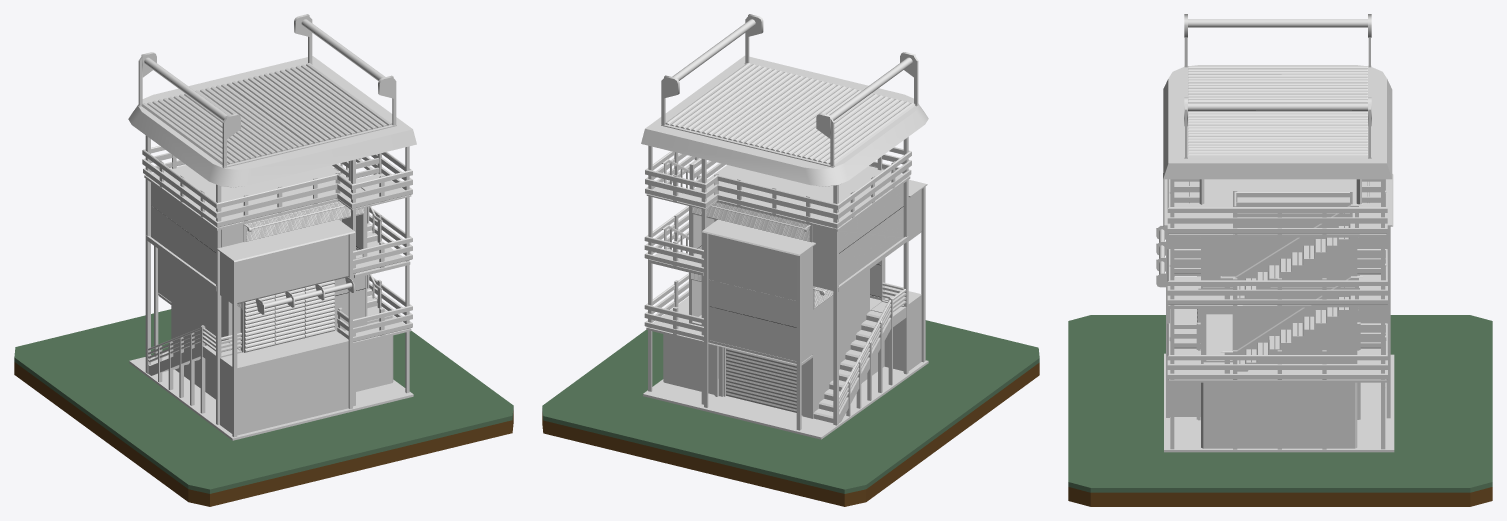
File: Tower-house_design22.blend.glb
The picture shows the model from 3 angles, left to right: view 1: azimuth 30°, elevation 25°; view 2: azimuth 150°, elevation 25°; view 3: azimuth 270°, elevation 25°; orthographic projection. The views are drawn at different scales.
Parts seen in each view (by area): view 1: Cube.032, Plane, Cube.000, Cube.011, Cube.014; view 2: Cube.032, Plane, Cube.000, Cube.011, Cube.014; view 3: Cube.032, Plane, Cube.022, Cube.011, Cube.014, Cube.034, gartentor part.367, gartentor part.352, gartentor part.356, gartentor part.357, gartentor part.361, gartentor part.362 (+23 smaller).
Boxes of the visible parts, x1,y1,x2,y2 form: Cube.032: (128,56,416,440); Plane: (14,309,513,506); Cube.000: (151,183,365,327); Cube.011: (138,52,310,167); Cube.014: (225,14,396,146); Cube.032: (641,55,928,439); Plane: (542,320,1039,506); Cube.000: (709,184,903,361); Cube.011: (747,52,918,167); Cube.014: (661,14,832,146); Cube.032: (1163,65,1394,452); Plane: (1068,315,1492,506); Cube.022: (1203,223,1355,312); Cube.011: (1184,14,1371,96); Cube.014: (1184,97,1371,158); Cube.034: (1206,314,1232,354); gartentor part.367: (1188,153,1367,157); gartentor part.352: (1188,111,1367,114); gartentor part.356: (1188,122,1367,125); gartentor part.357: (1188,125,1367,128); gartentor part.361: (1188,136,1367,139); gartentor part.362: (1188,139,1367,142).
Bounding box in the file's own units: 15.44 × 15.13 × 16.
